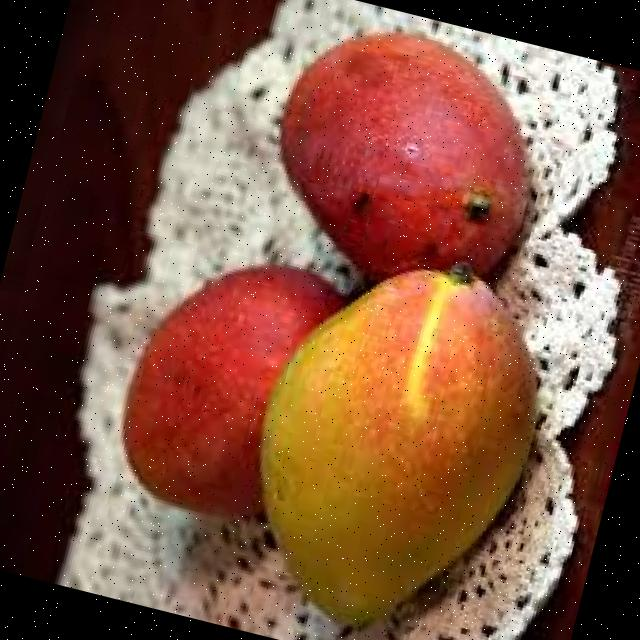mango: (260, 262, 539, 622)
